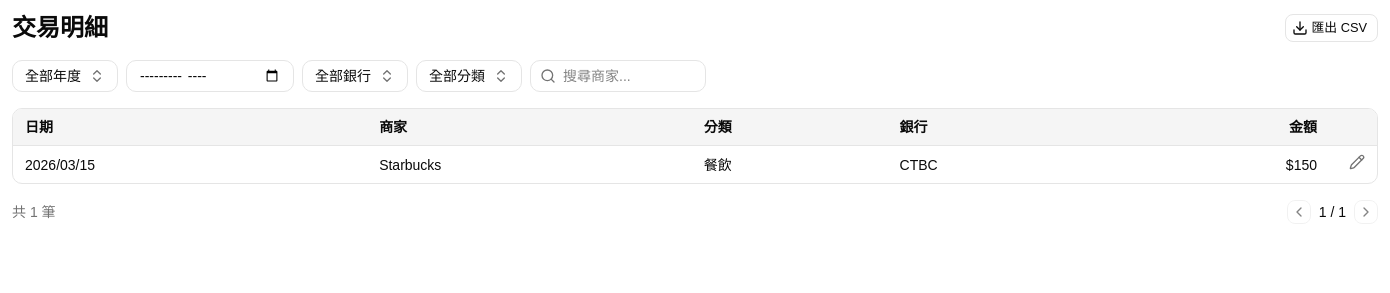
Test: TransactionsPage CSV export › shows export error message when the blob fetch throws an Error
Expected: the link "Starbucks" is shown, [379,156,441,172]
Step 1. Click the button "匯出 CSV" → (1331, 28), box [1284,14,1378,42]
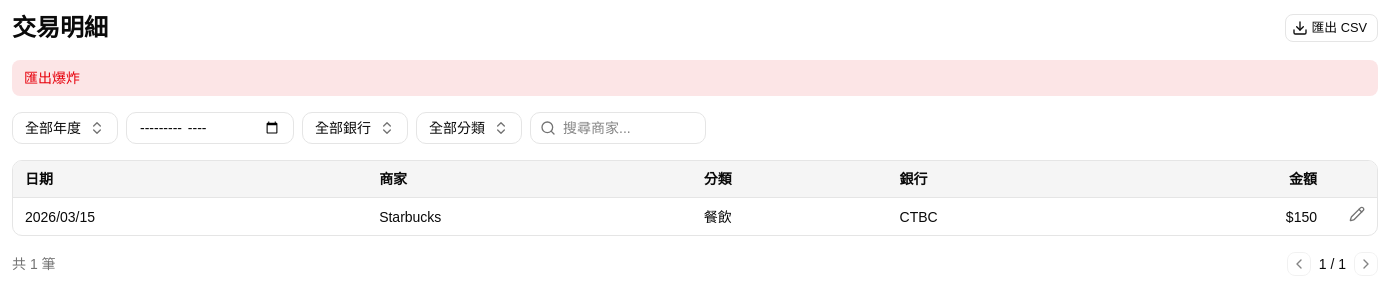
Expected: the message reads "匯出爆炸", [24,70,80,86]
